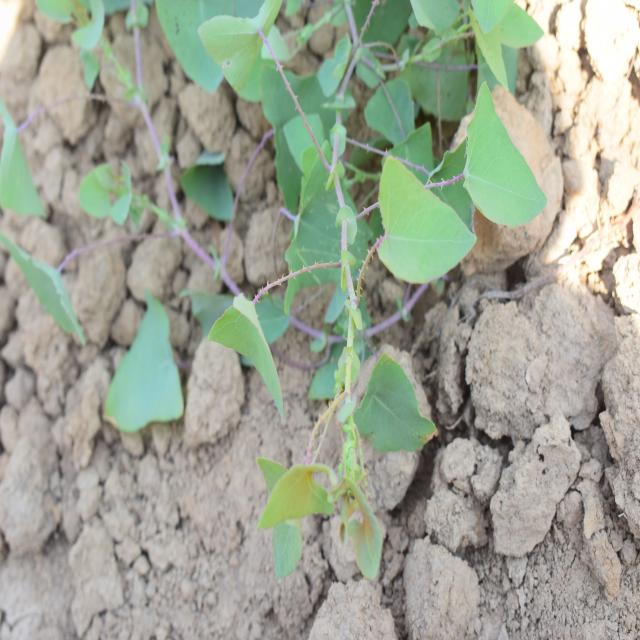Asiatic_Smartweed: (216, 111, 446, 552), (328, 0, 538, 264)
